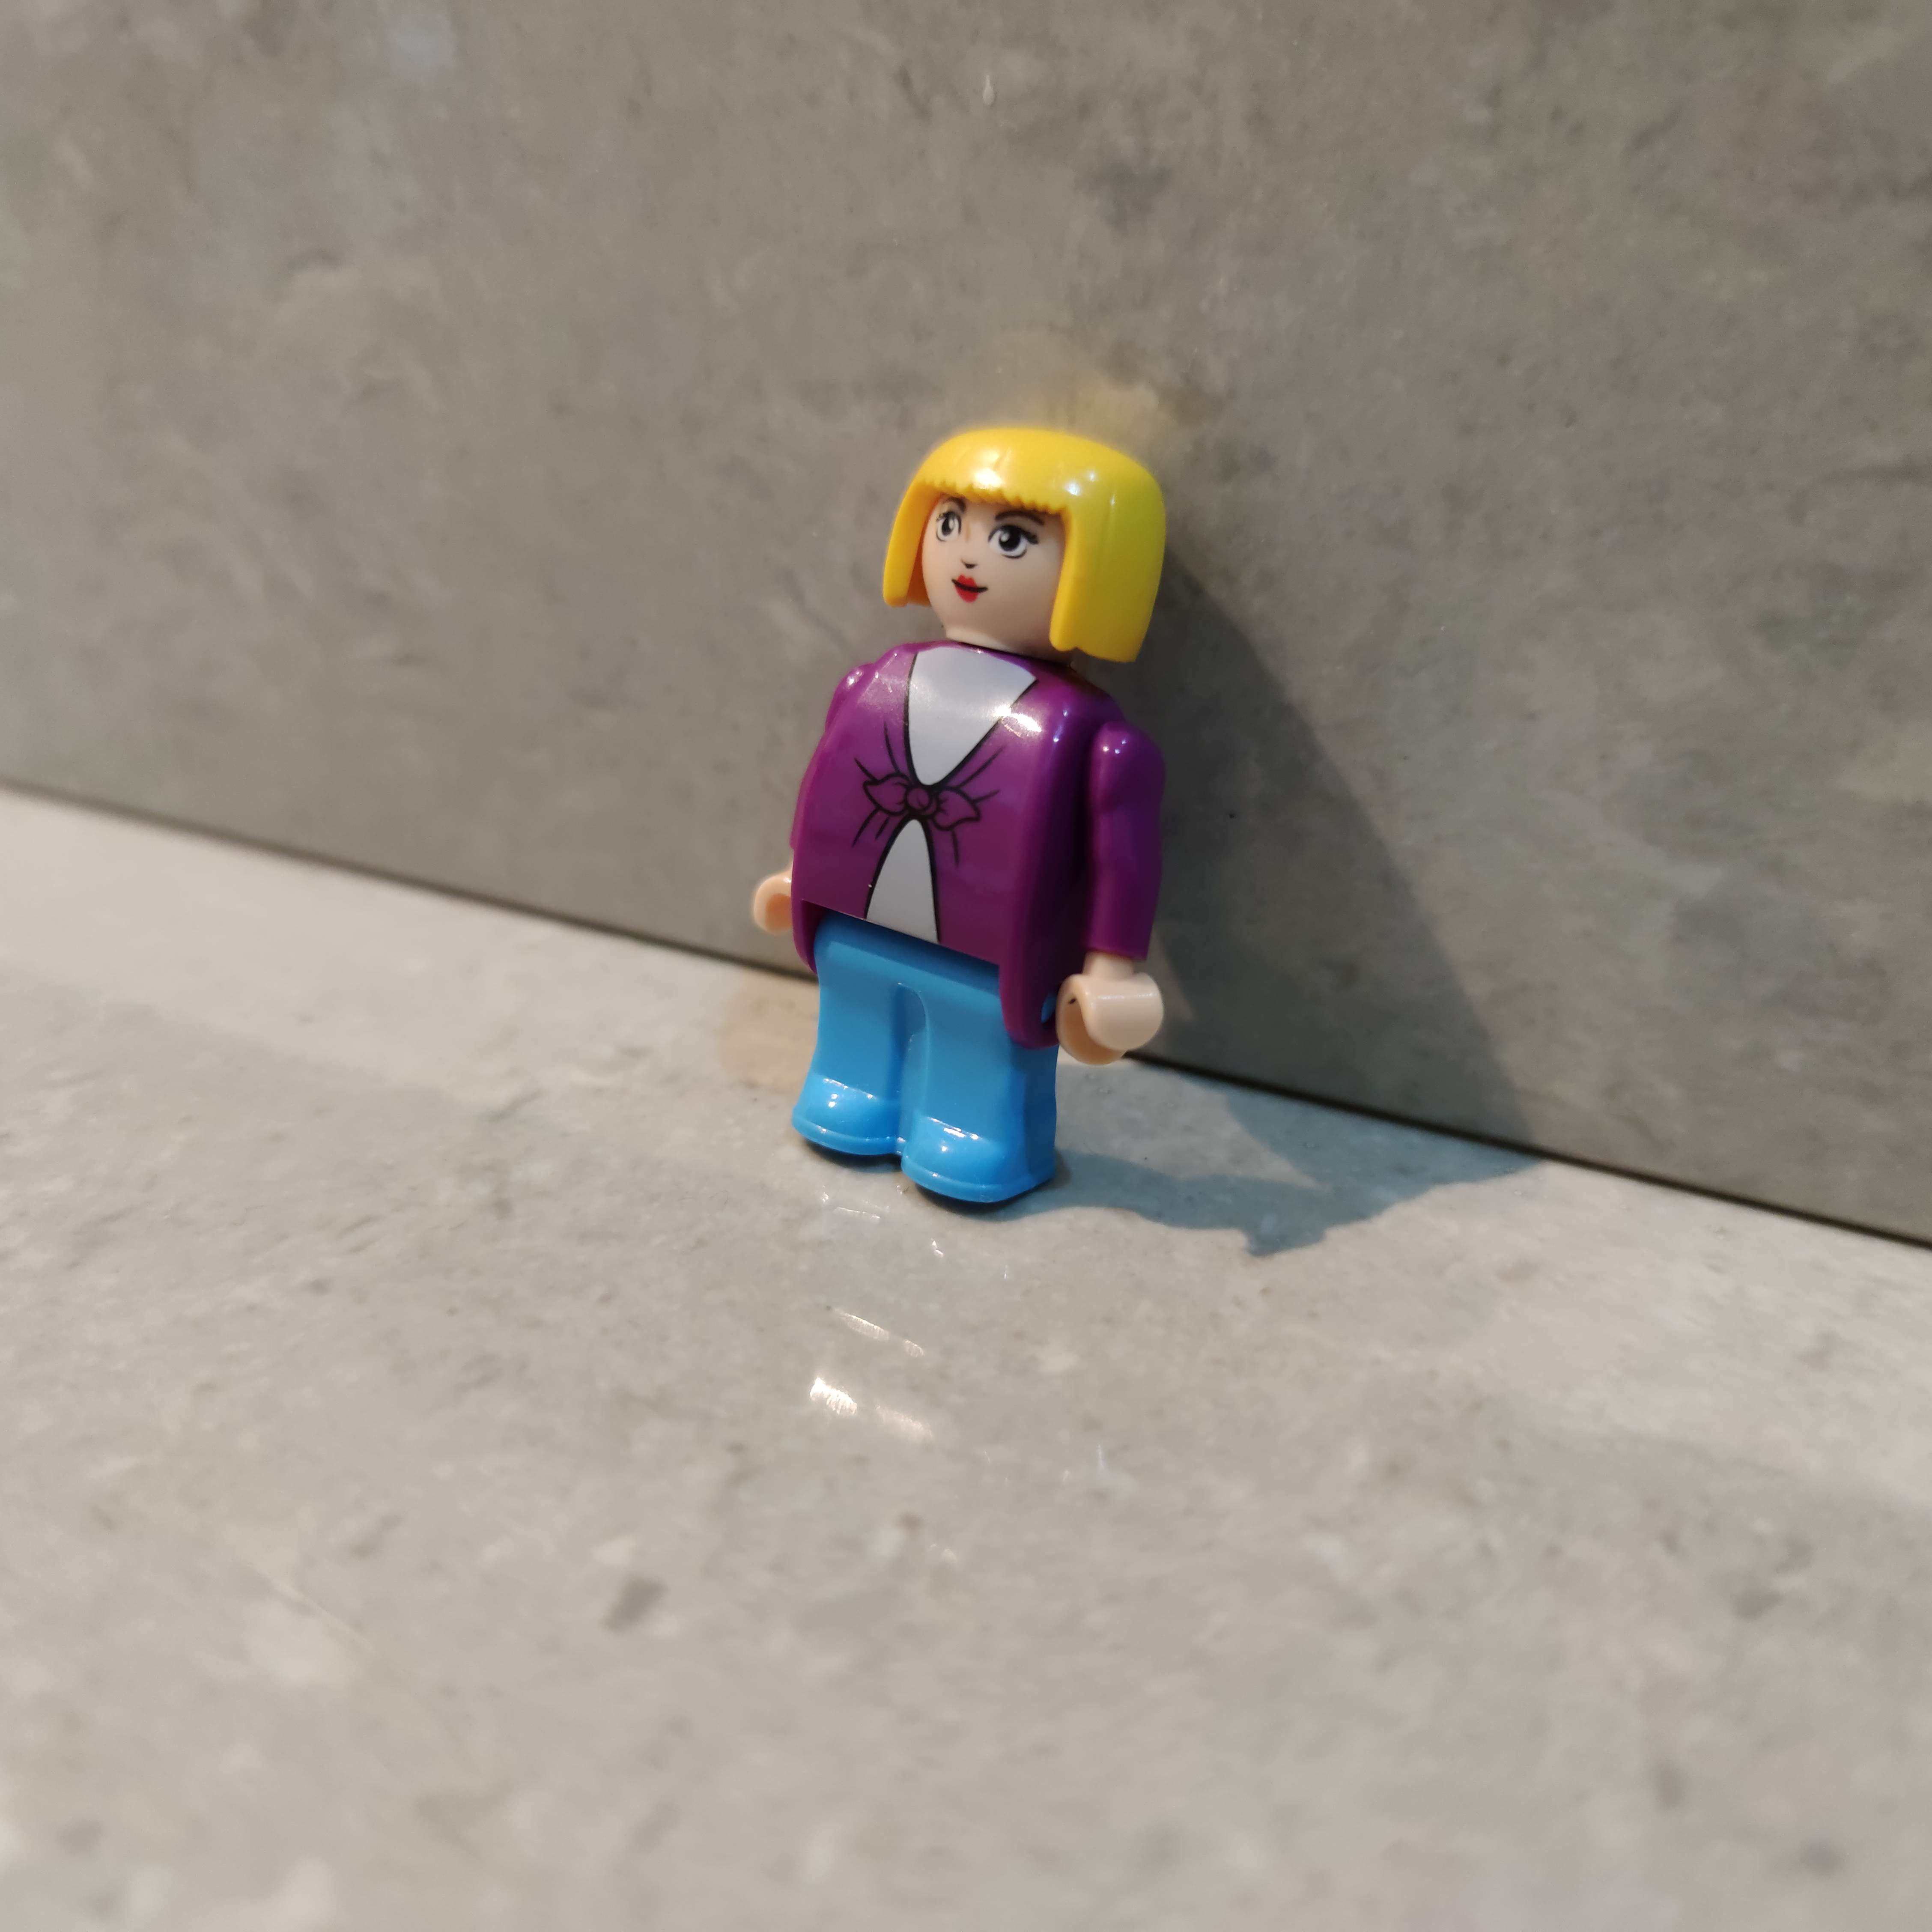lego: (745, 423, 1173, 1212)
